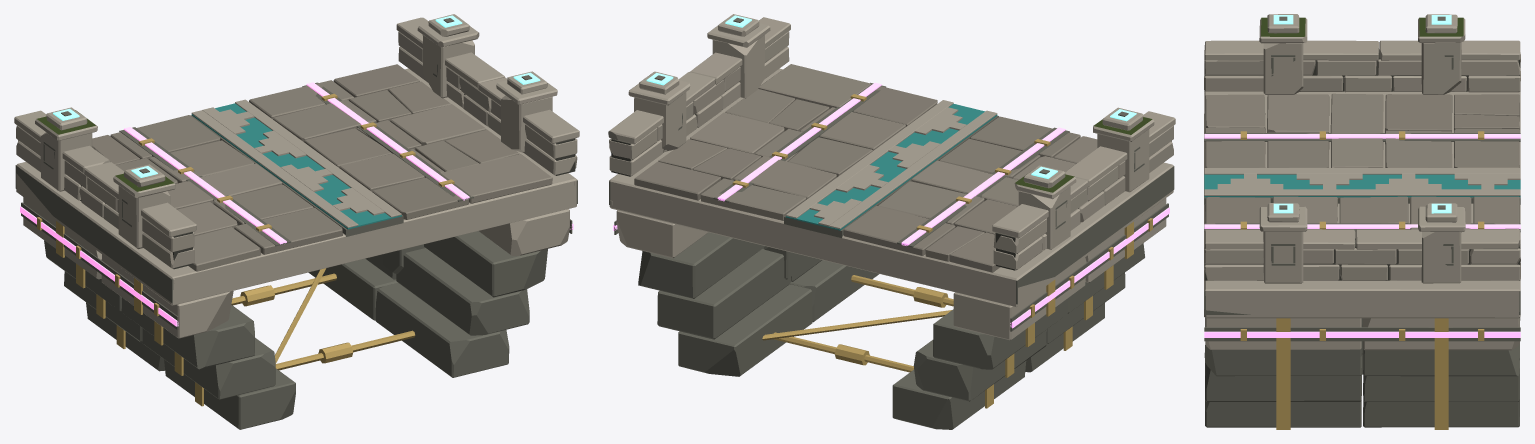
Rendered from zr_bridge_span_8m.glb.
3 renders of one model, left to right at view 1: azimuth 30°, elevation 25°; view 2: azimuth 150°, elevation 25°; view 3: azimuth 270°, elevation 25°, orthographic.
Parts seen in each view (by area): view 1: zr_bridge_span_8m; view 2: zr_bridge_span_8m; view 3: zr_bridge_span_8m.
Part boxes in pixels (x1,y1,x2,y2): zr_bridge_span_8m: (14, 14, 579, 429); zr_bridge_span_8m: (608, 14, 1175, 429); zr_bridge_span_8m: (1204, 14, 1520, 429).
Size of what is drawn, in the model's own units: 12.51 by 6.96 by 8.01.
